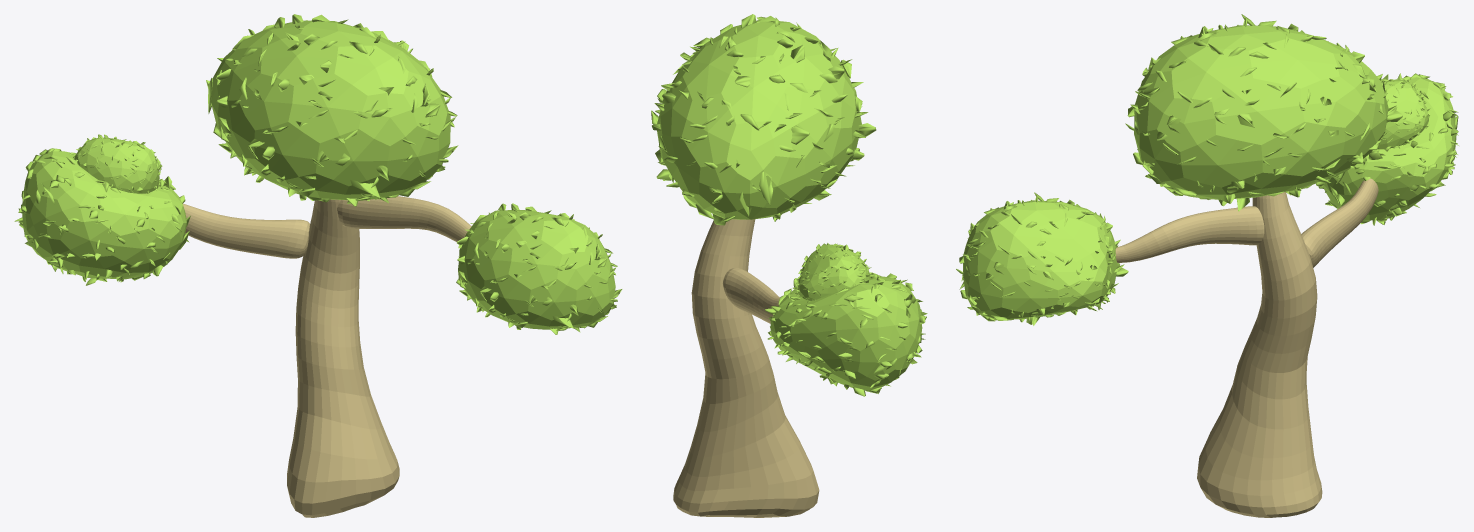
Rendered from Tree.fbx.
3 renders of one model, left to right at view 1: azimuth 30°, elevation 25°; view 2: azimuth 150°, elevation 25°; view 3: azimuth 270°, elevation 25°, orthographic.
Visible parts, largest first — view 1: Tree; view 2: Tree; view 3: Tree.
Part boxes in pixels (x1,y1,x2,y2): Tree: (14,14,622,517); Tree: (651,14,927,517); Tree: (956,14,1458,517).
Bounding box in the file's own units: 0.3243 × 0.375 × 0.3632.
